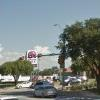Tree: (48, 12, 100, 81)
